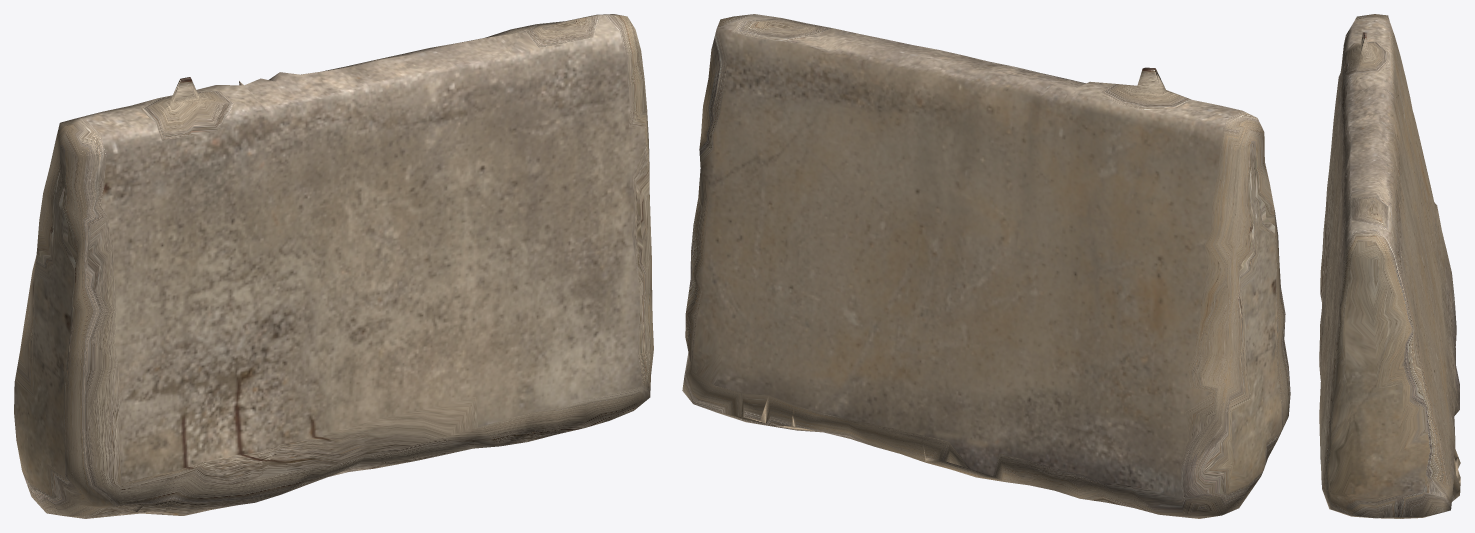
Rendered from concrete_road_barrier_02.glb.
3 renders of one model, left to right at view 1: azimuth 30°, elevation 25°; view 2: azimuth 150°, elevation 25°; view 3: azimuth 270°, elevation 25°, orthographic. The views are drawn at different scales.
Visible parts, largest first — view 1: concrete_road_barrier_02; view 2: concrete_road_barrier_02; view 3: concrete_road_barrier_02.
Part boxes in pixels (<box>): concrete_road_barrier_02: <box>14,14,653,518</box>; concrete_road_barrier_02: <box>682,14,1290,518</box>; concrete_road_barrier_02: <box>1319,14,1460,518</box>.
Size of the model in its own units: 1.56 by 1.1 by 0.431.
1 material, 1 textured.
